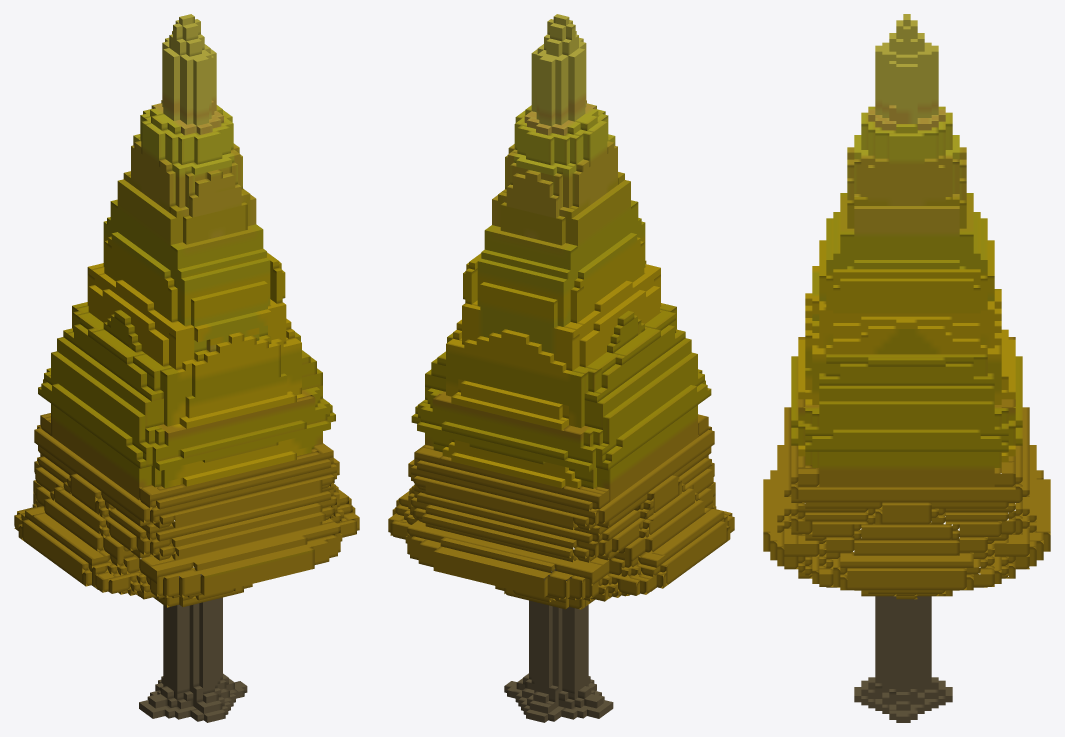
The model's file is pine_tree_autumn.fbx.
The picture shows the model from 3 angles, left to right: view 1: azimuth 30°, elevation 25°; view 2: azimuth 150°, elevation 25°; view 3: azimuth 270°, elevation 25°; orthographic projection.
Visible parts, largest first — view 1: pine_tree_autumn; view 2: pine_tree_autumn; view 3: pine_tree_autumn.
Part boxes in pixels (box(x1,y1,x2,y2)): pine_tree_autumn: box(14, 14, 359, 722); pine_tree_autumn: box(388, 14, 734, 722); pine_tree_autumn: box(763, 14, 1050, 722).
Bounding box in the file's own units: 516 × 1254 × 481.
1 material, 1 textured.
